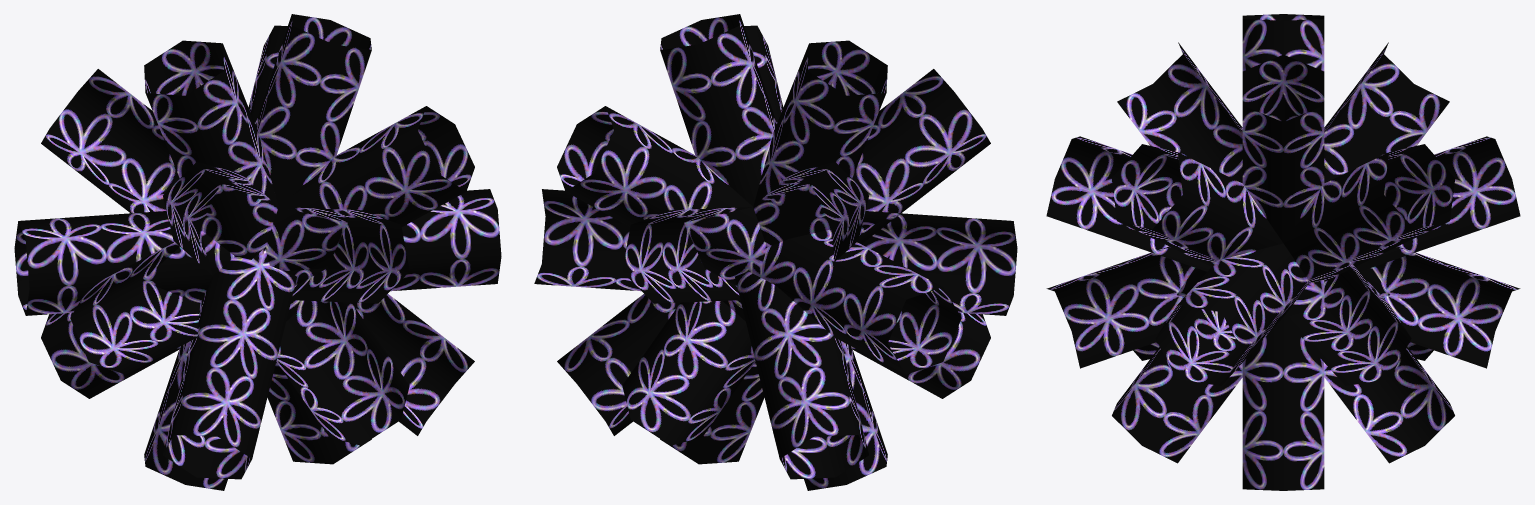
Rendered from GreatDodecahemicosacron18.gltf.
3 views of the same model, side by side, from view 1: azimuth 30°, elevation 25°; view 2: azimuth 150°, elevation 25°; view 3: azimuth 270°, elevation 25° (orthographic).
Parts seen in each view (by area): view 1: GreatDodecahemicosacron1; view 2: GreatDodecahemicosacron1; view 3: GreatDodecahemicosacron1.
Part boxes in pixels (bbox=[...]): GreatDodecahemicosacron1: bbox=[14, 14, 501, 490]; GreatDodecahemicosacron1: bbox=[534, 14, 1017, 490]; GreatDodecahemicosacron1: bbox=[1046, 14, 1520, 490].
Bounding box in the file's own units: 10.06 × 10.06 × 10.06.
1 material, 1 textured.
